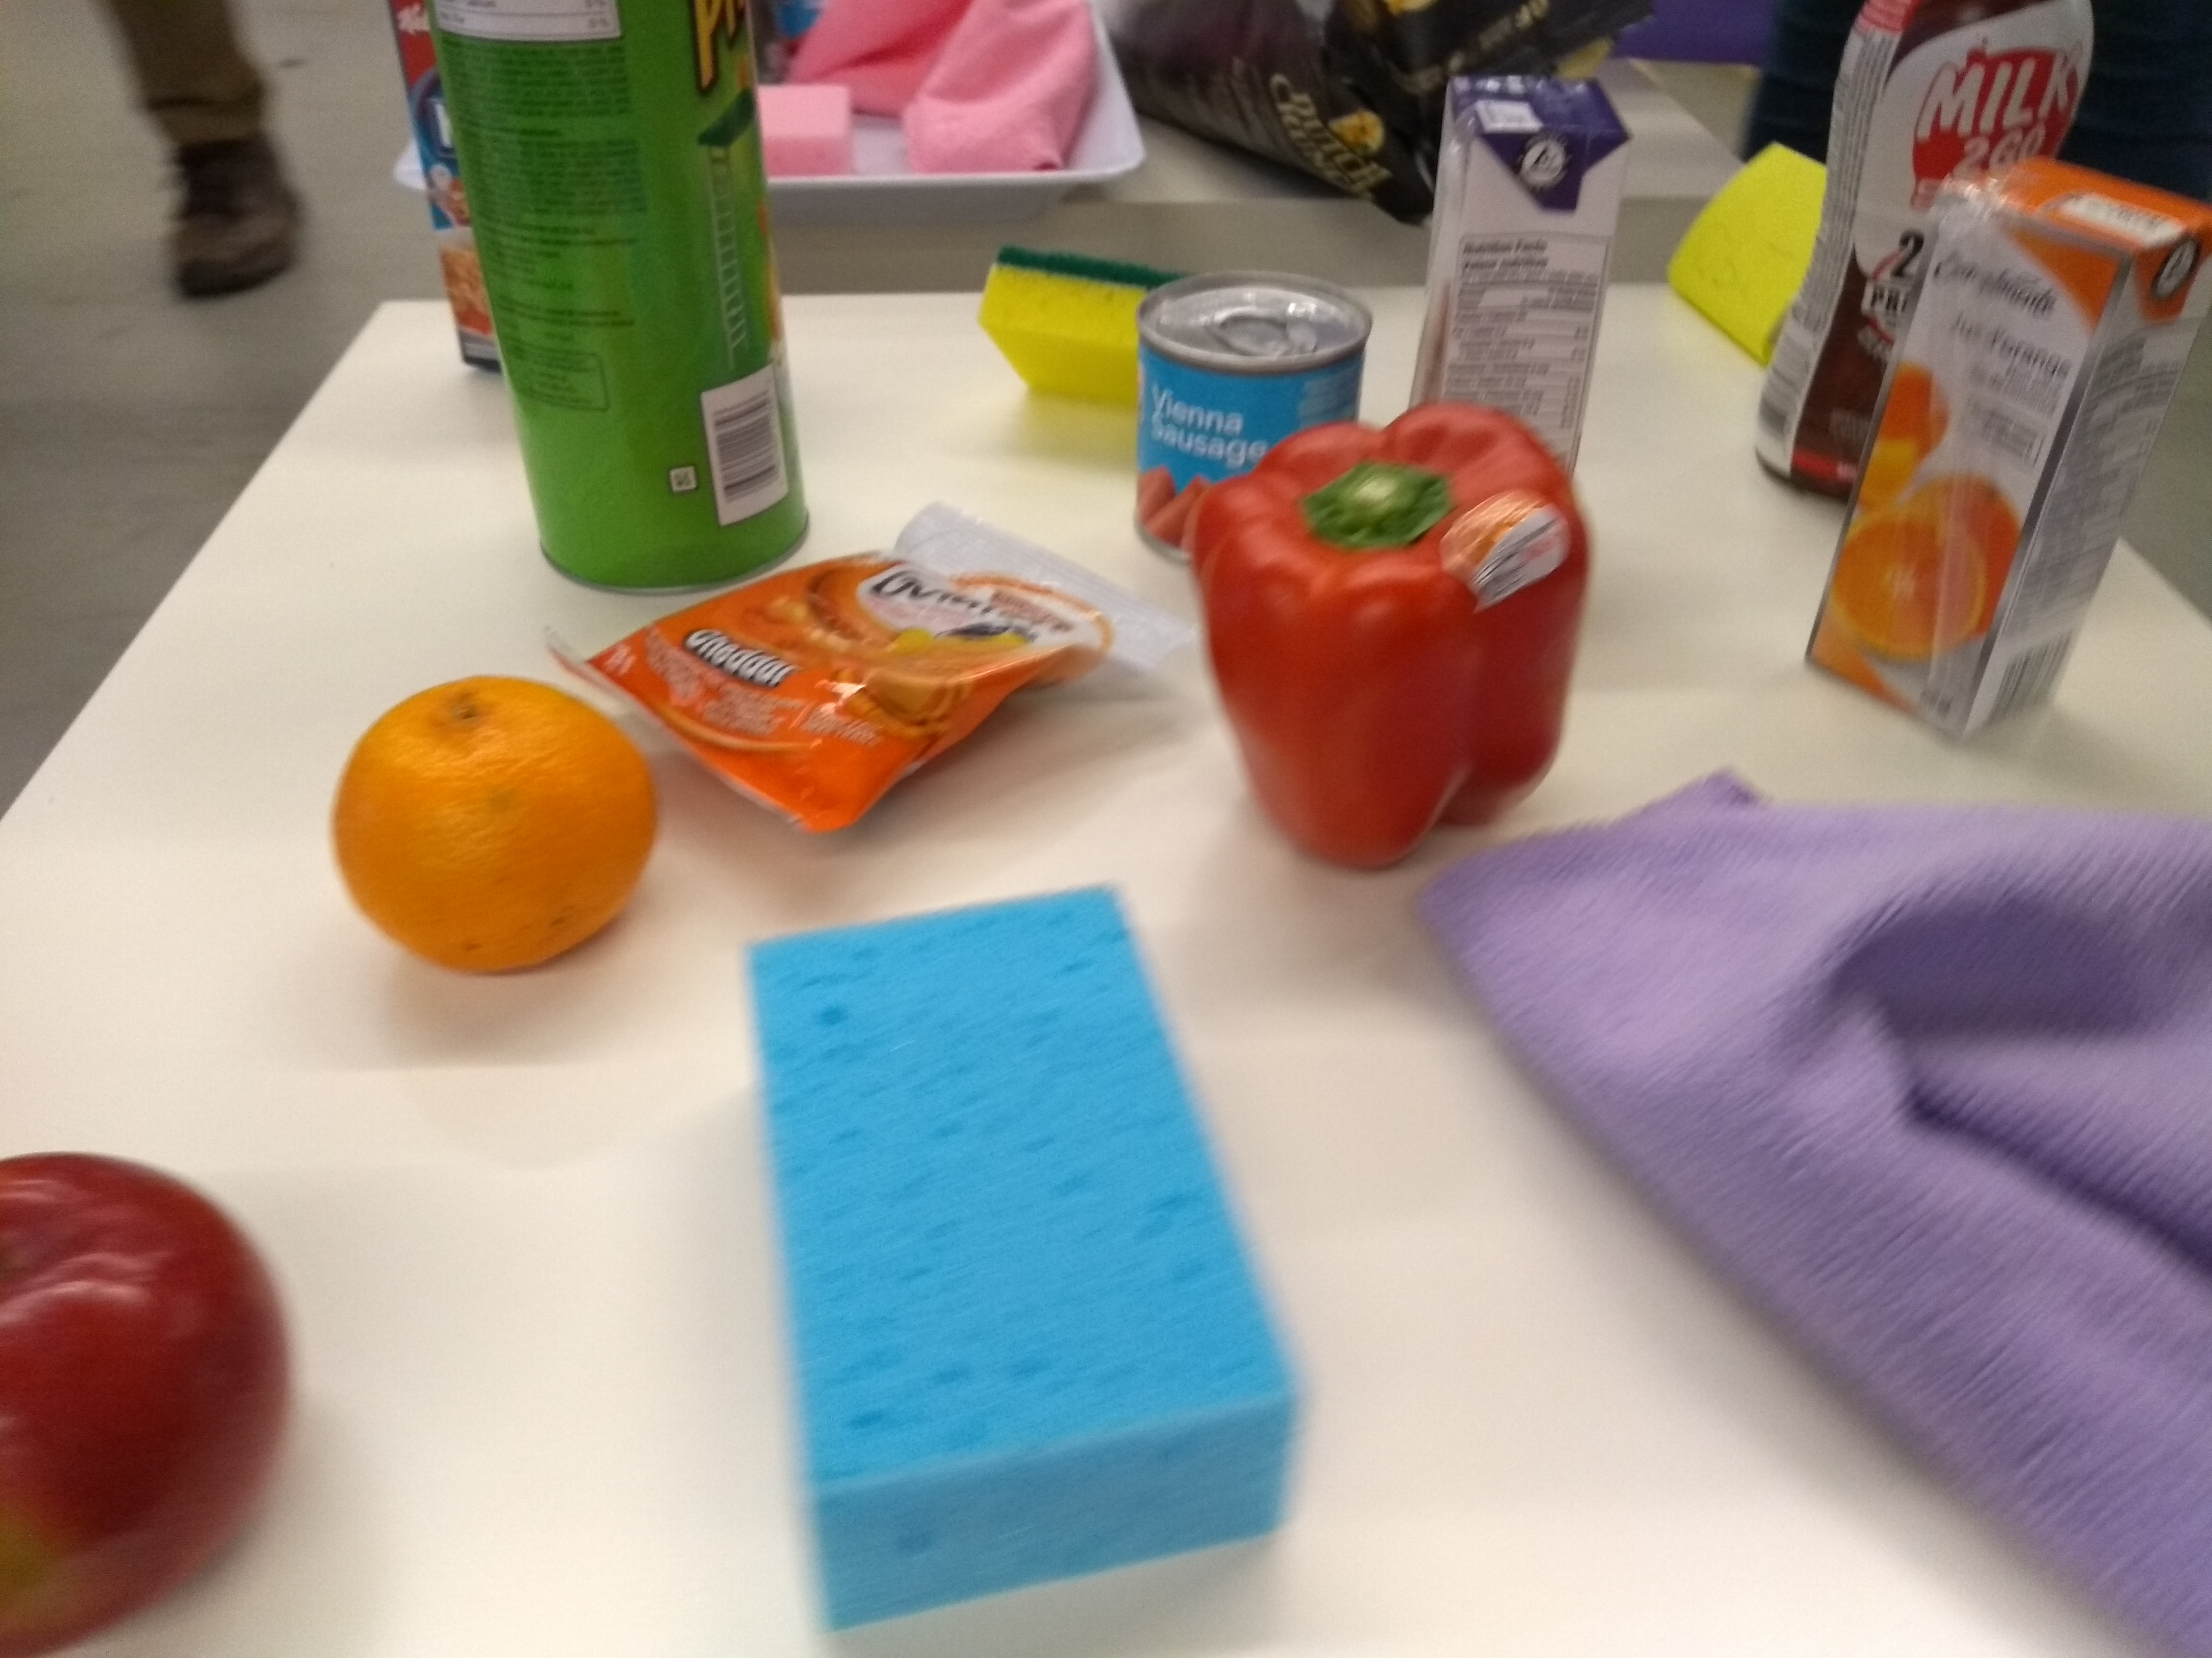crackers: (582, 519, 1188, 859)
grape_juice: (1393, 66, 1646, 486)
orange: (317, 658, 676, 994)
orange_juice: (1797, 155, 2210, 751)
paprika: (1183, 392, 1618, 888)
pringles: (420, 0, 824, 625)
sausages: (1132, 265, 1371, 564)
scrubby: (972, 221, 1153, 425)
sponge_opl: (723, 871, 1334, 1658)
